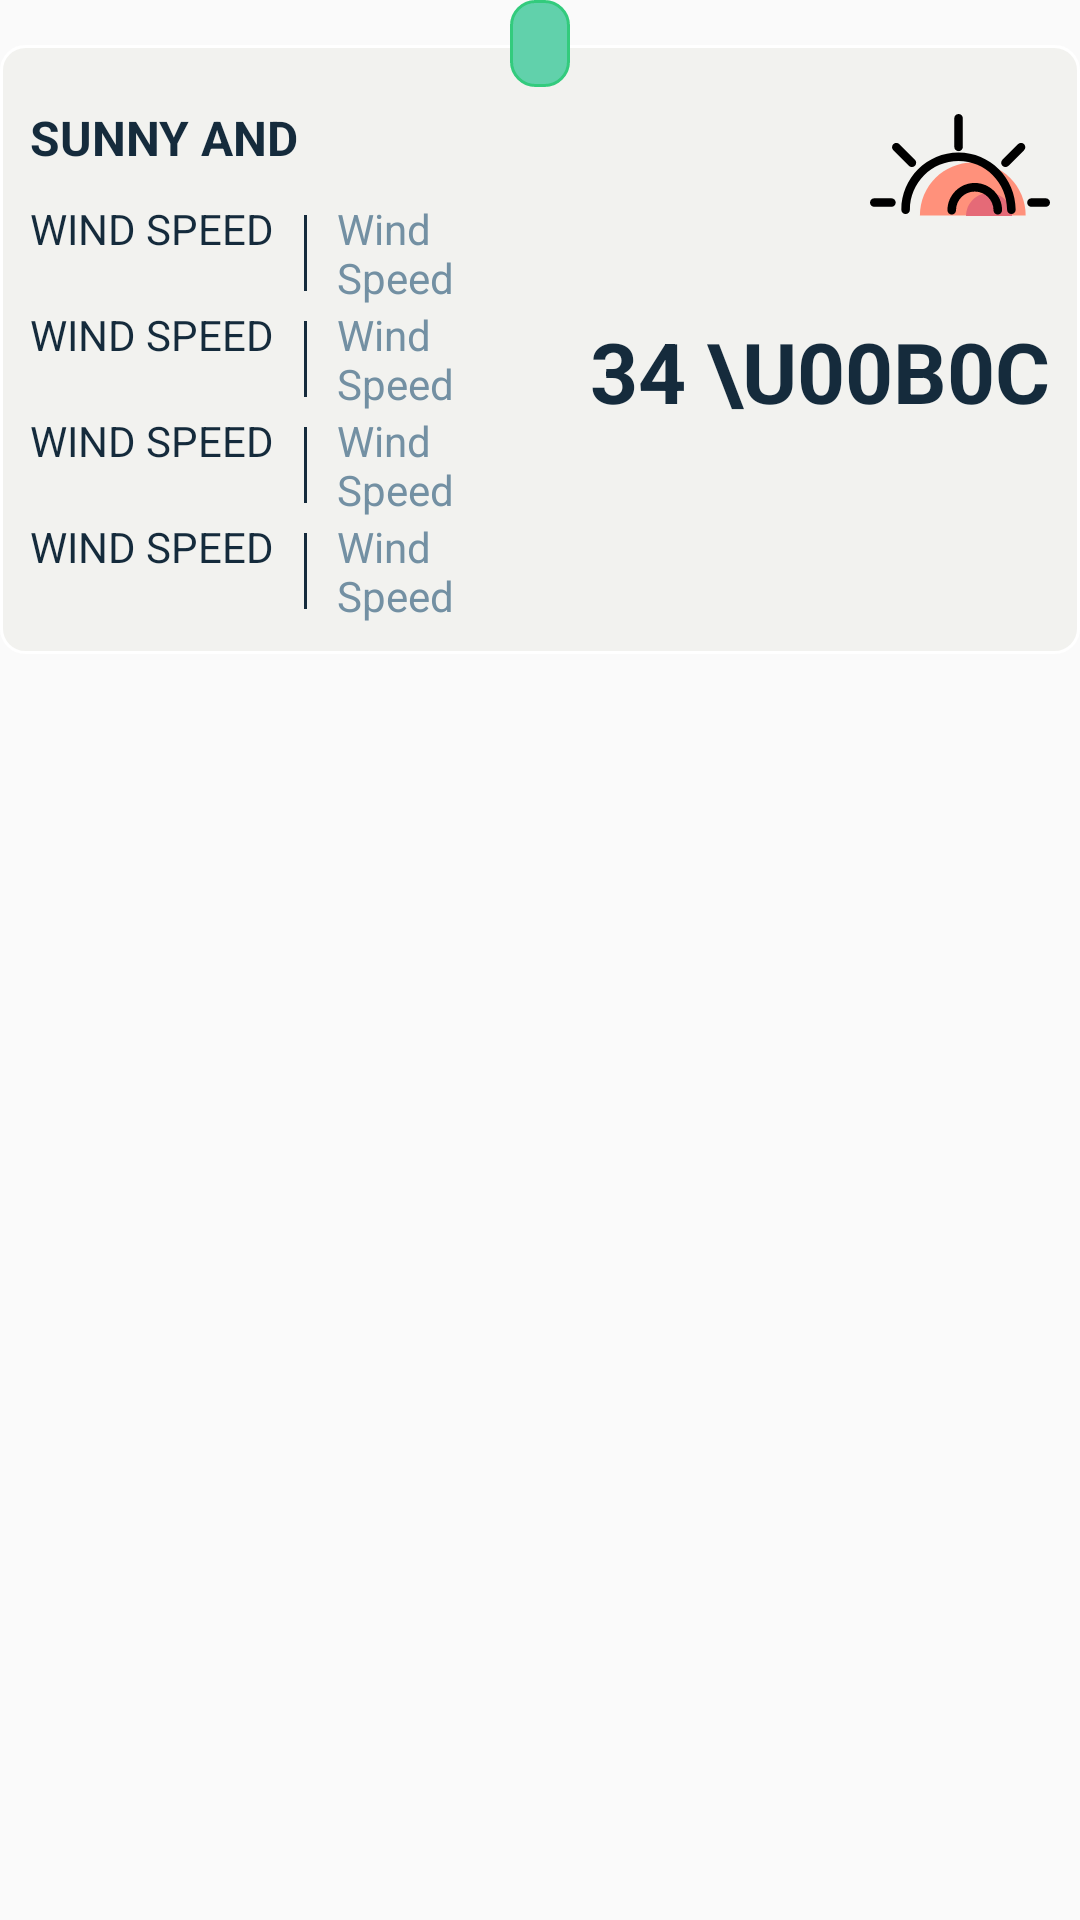

Screen size 1080 x 1920. Icon name, then its box in pixels as bbox=[x1, y1, x2, y2]:
sun: bbox=[870, 114, 1050, 216]
